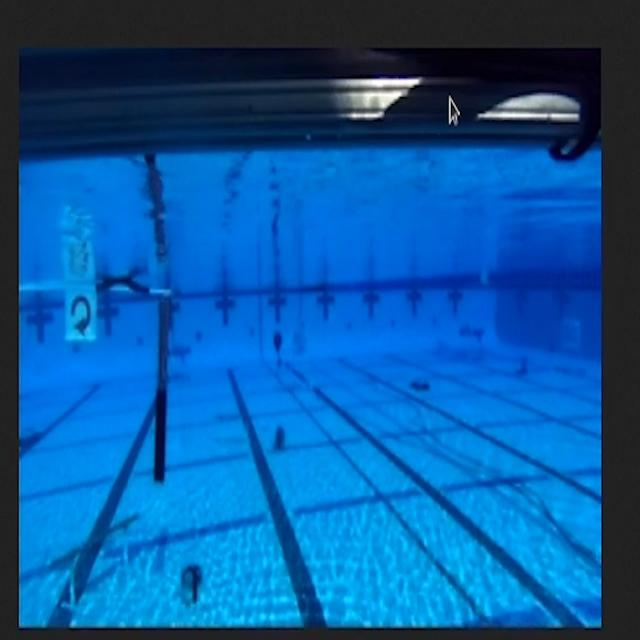Gate: (24, 276, 172, 484)
